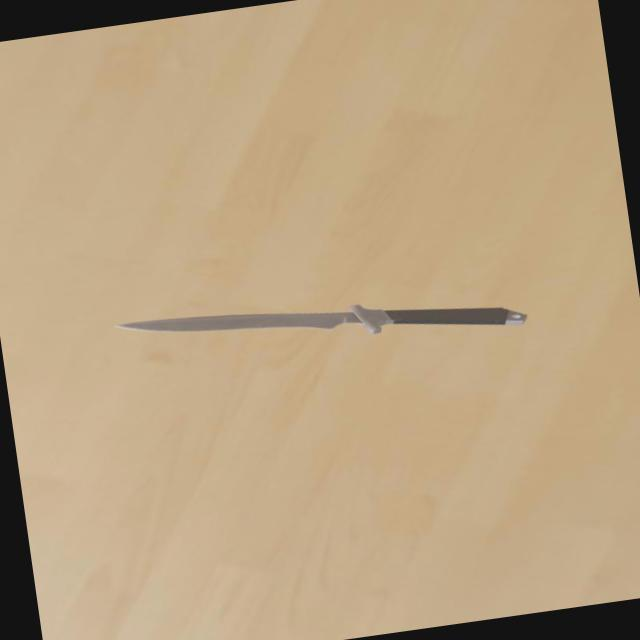knife: (384, 290, 526, 344)
